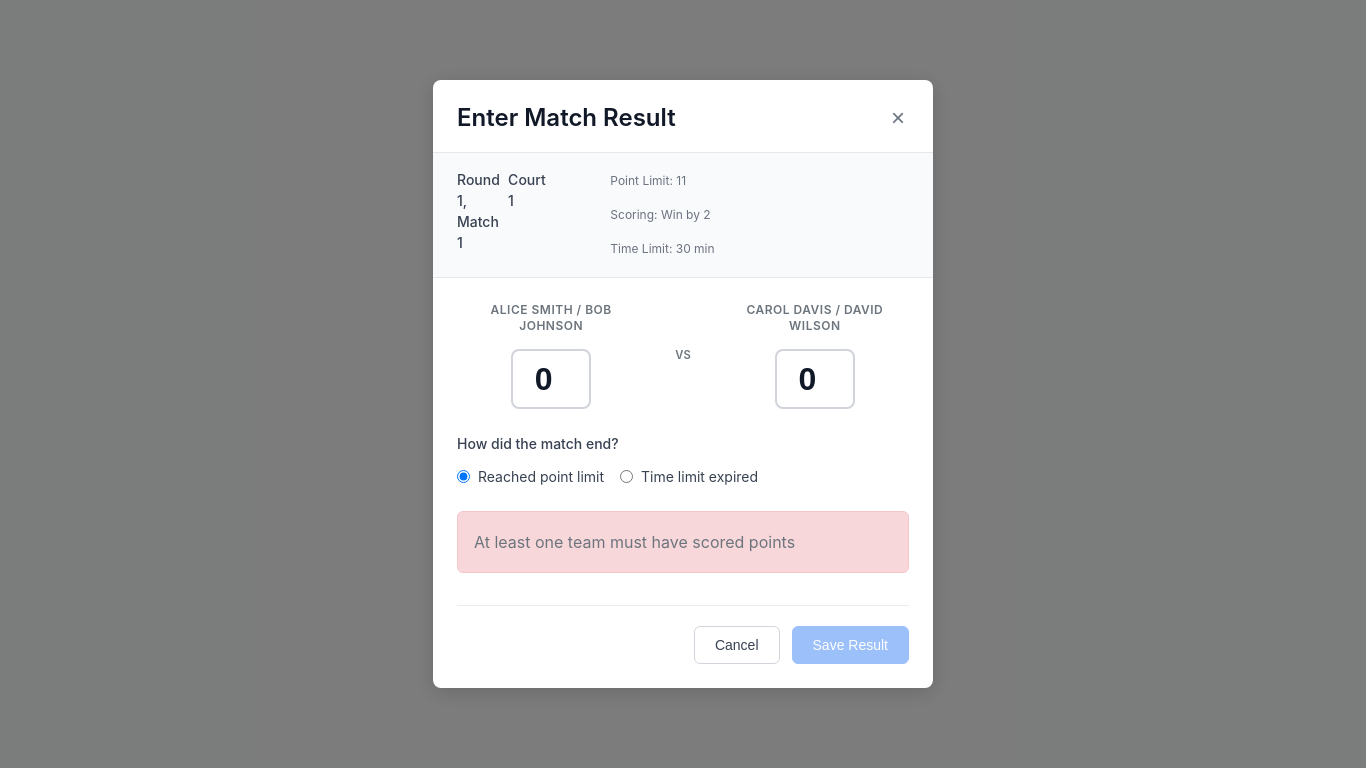
Test: ScoreEntry Component › end reason selection › should reject tie scores even with time limit
Replace the text in the number field below "Alice Smith / Bob Johnson" with "8" at (551, 379), box [511,349,591,409]
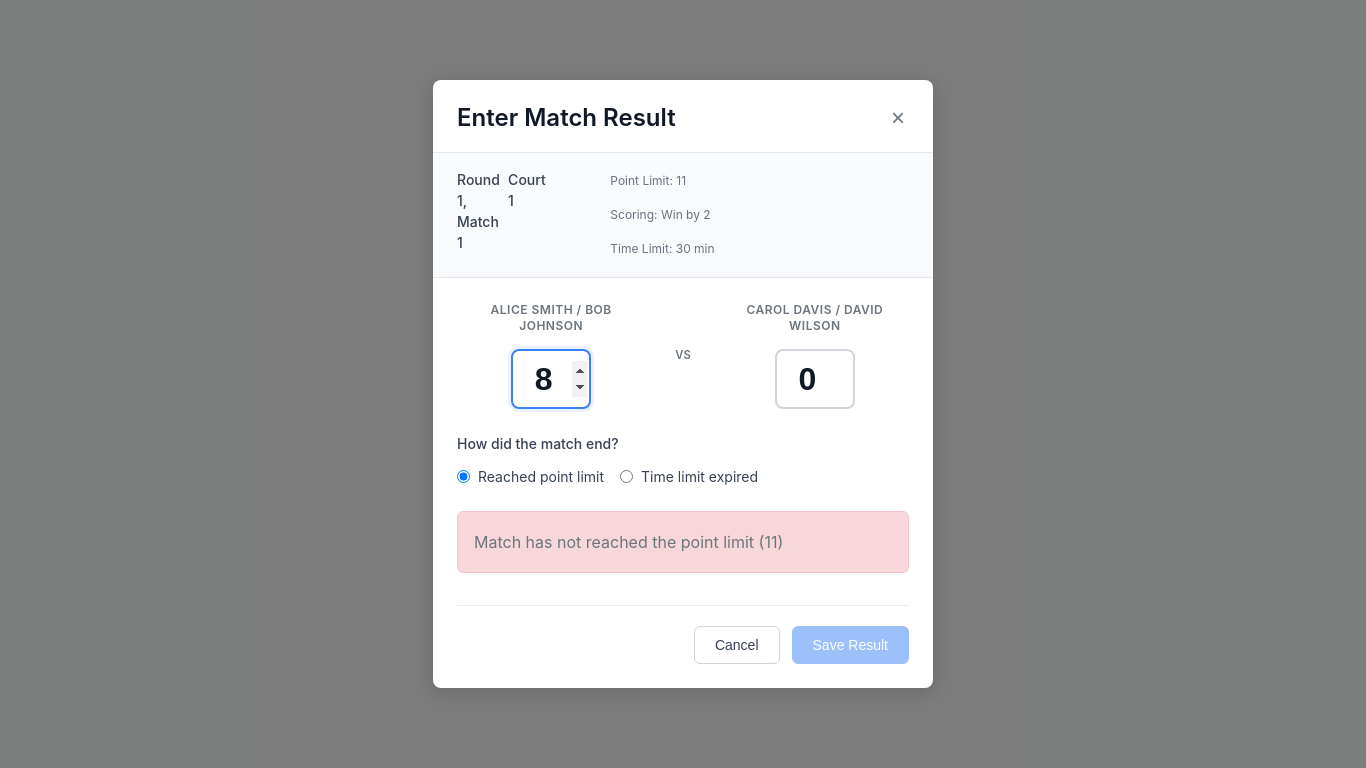
Replace the text in the number field below "Carol Davis / David Wilson" with "8" at (815, 379), box [775,349,855,409]
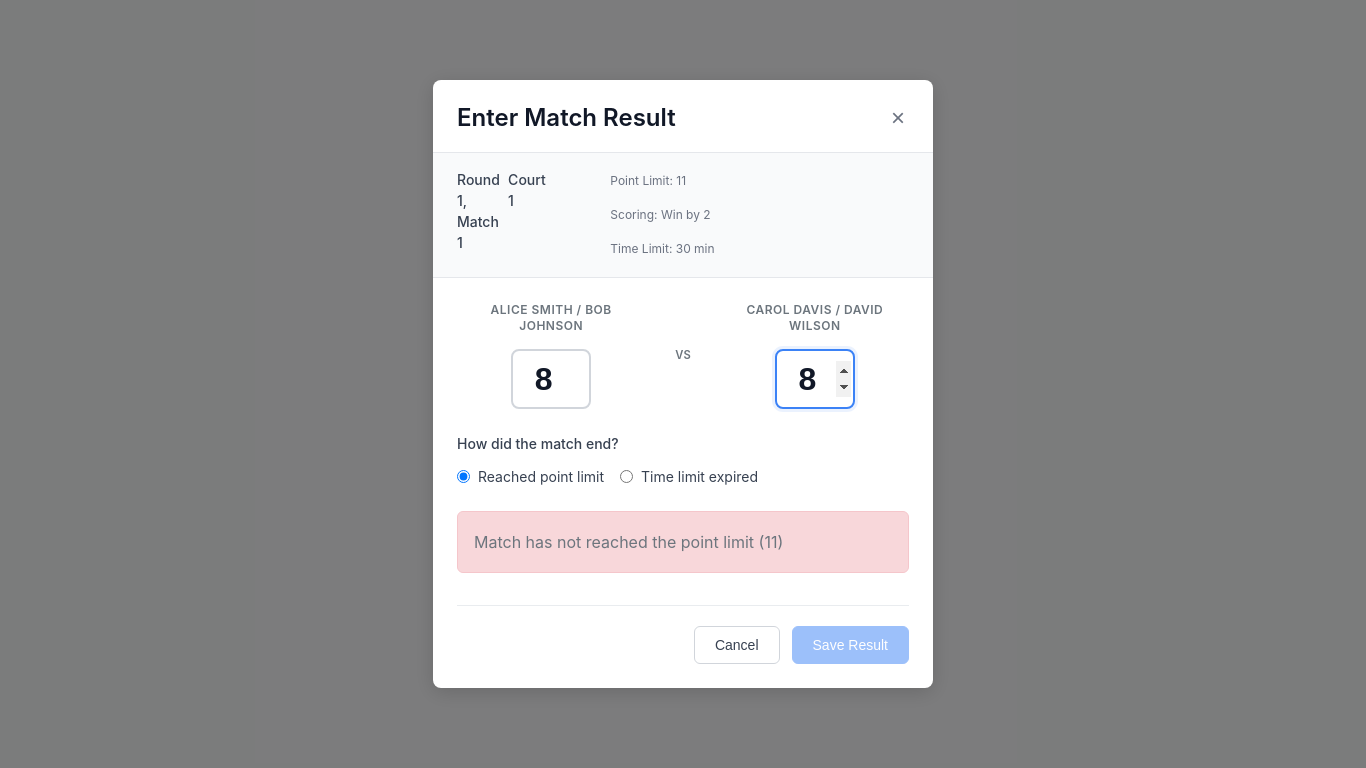
Click the radio button labelled "Time limit expired" at (627, 477), box [620,470,633,483]
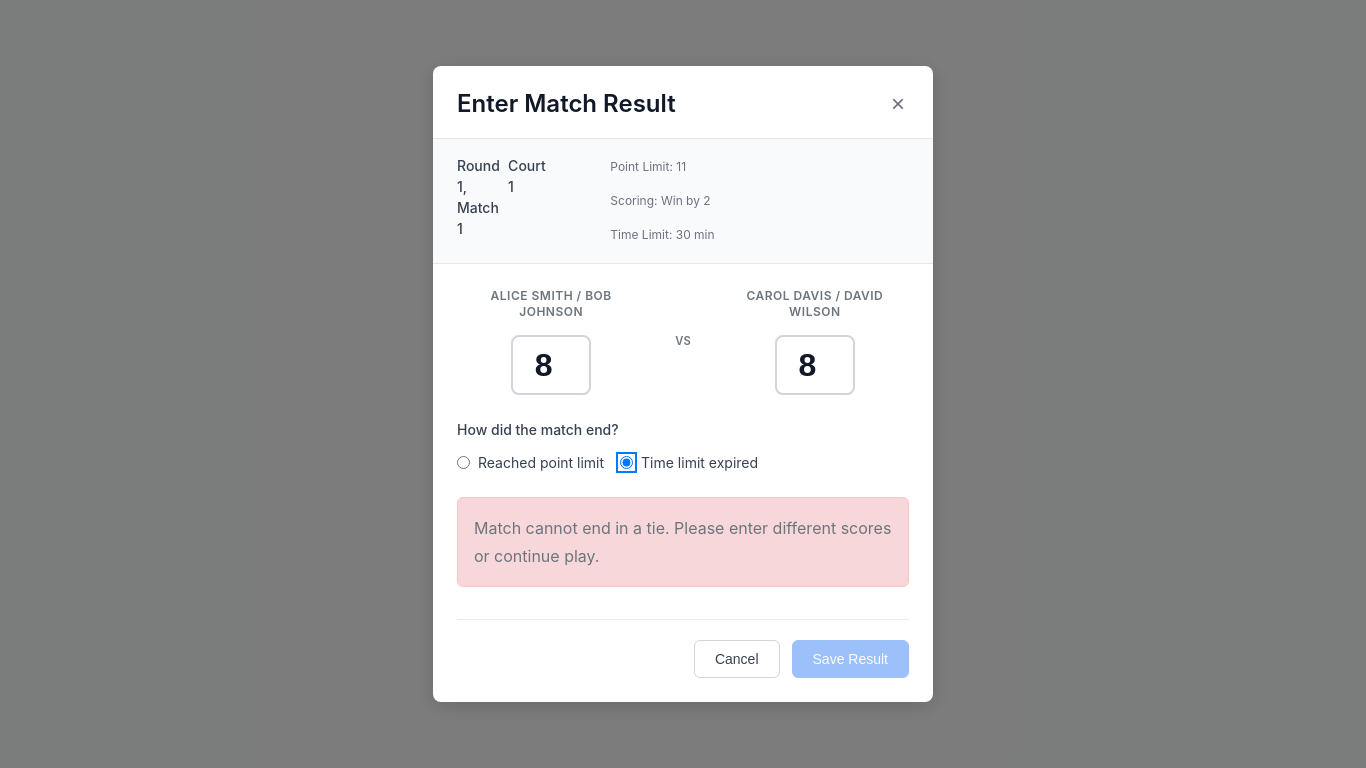
Expected: the text "Match cannot end in a tie" is shown, [474,518,891,566]
